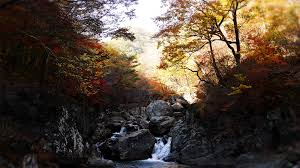forest: (14, 6, 278, 148)
mountain: (4, 7, 298, 168)
tree: (7, 5, 131, 107), (165, 3, 261, 111)
